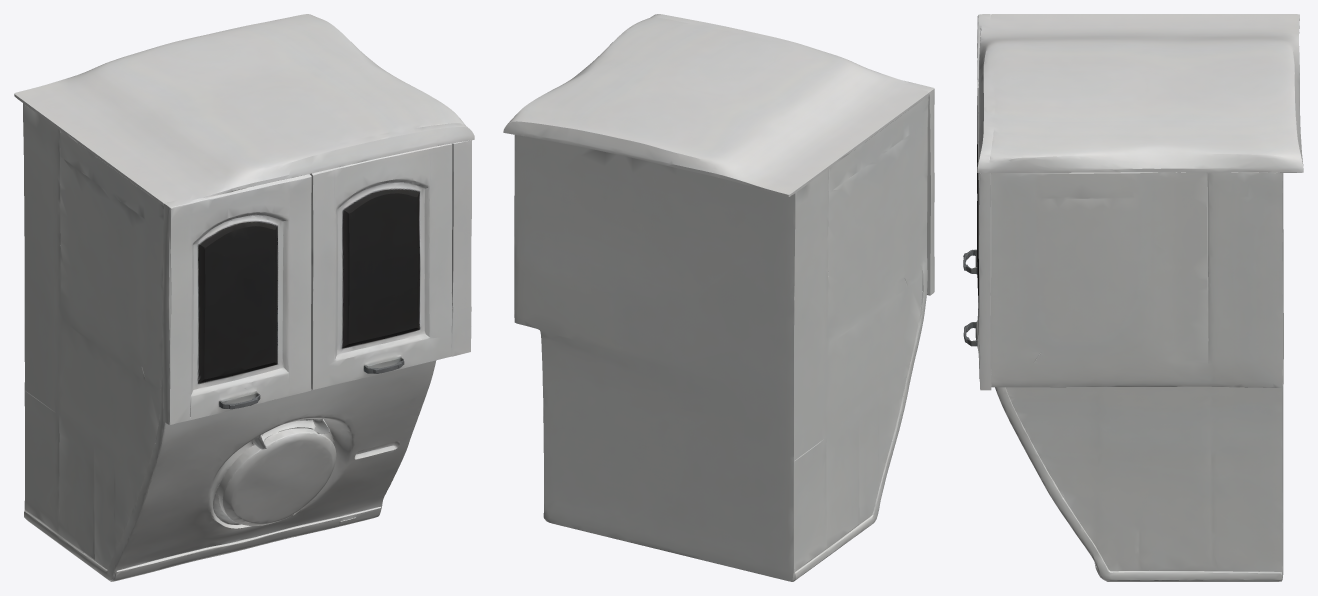
File: two-burner-gas-hob.glb
3 renders of one model, left to right at view 1: azimuth 30°, elevation 25°; view 2: azimuth 150°, elevation 25°; view 3: azimuth 270°, elevation 25°, orthographic. The views are drawn at different scales.
Parts seen in each view (by area): view 1: model; view 2: model; view 3: model.
Boxes of the visible parts, left/top/right/bottom form: model: left=14, top=14, right=474, bottom=581; model: left=503, top=14, right=934, bottom=581; model: left=963, top=14, right=1303, bottom=581.
Size of the model in its own units: 1.39 by 1.9 by 1.3.
Materials: 1 (1 with a texture image).
